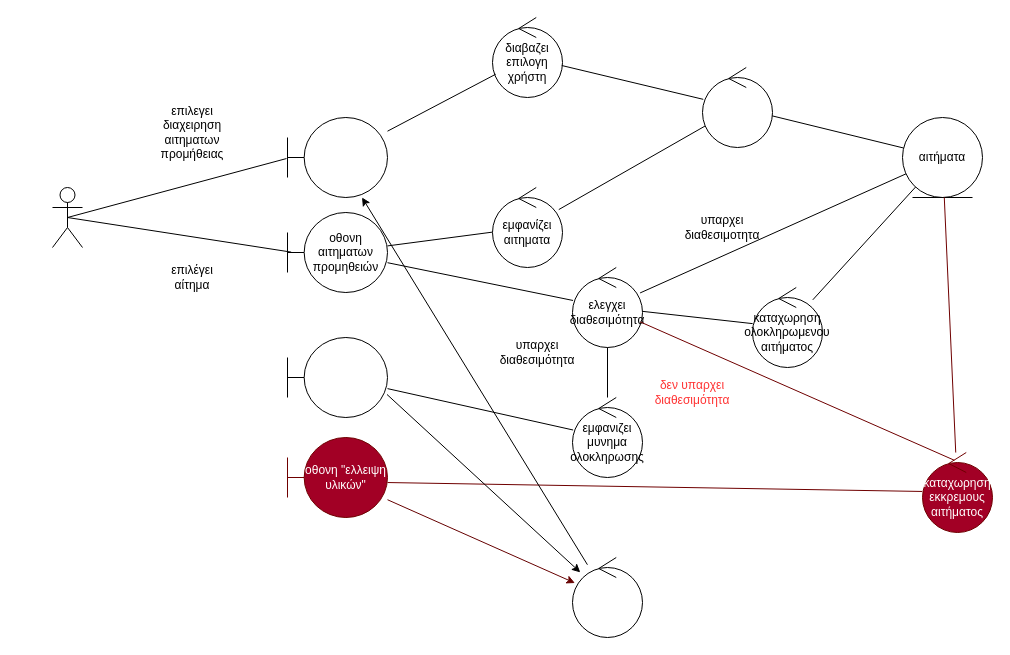
Image size: 1010x655. Some labels were removed from this diagram. Here are the shapes that lost their labels. From the top down, the box of each, then its label:
(702, 66, 772, 148): αναζητα αιτήματα
(286, 116, 388, 198): οθόνη μενου
(52, 186, 82, 248): τμημα προμηθειών
(286, 336, 388, 418): οθονη ολοκλήρωσης
(572, 556, 642, 638): κλείνει παράθυρο
